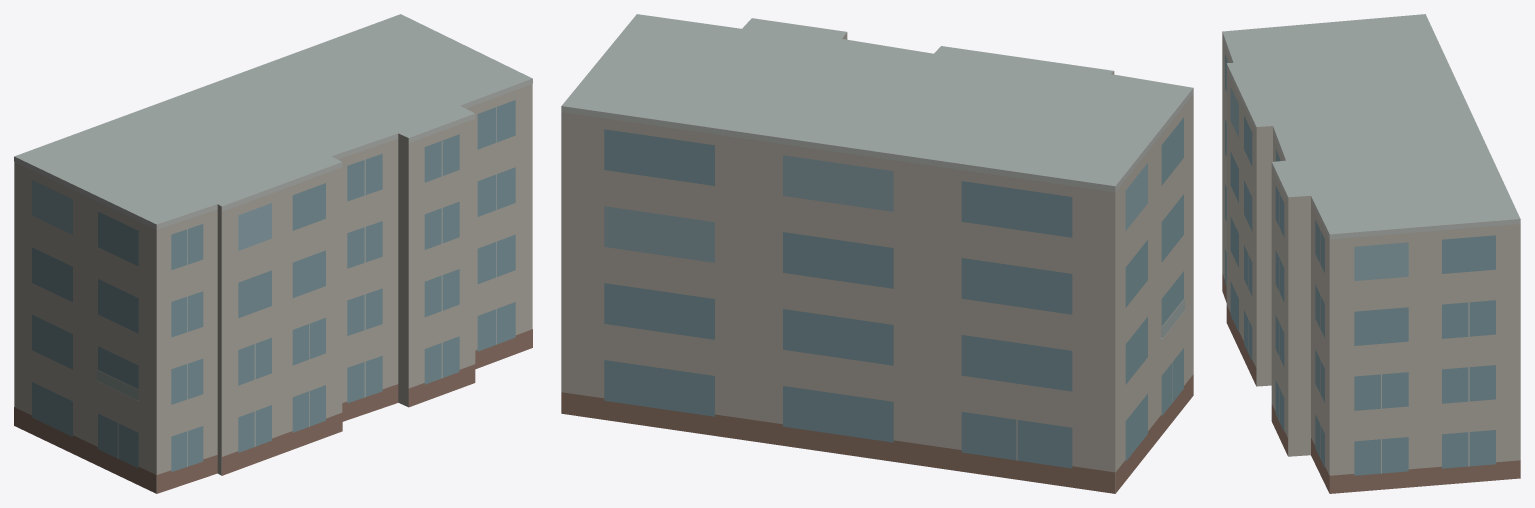
File: survey-upis-32705577.glb
3 views of the same model, side by side, from view 1: azimuth 30°, elevation 25°; view 2: azimuth 150°, elevation 25°; view 3: azimuth 270°, elevation 25° (orthographic). The views are drawn at different scales.
Visible parts, largest first — view 1: survey-upis-32705577.tmp; view 2: survey-upis-32705577.tmp; view 3: survey-upis-32705577.tmp.
Boxes of the visible parts, left/top/right/bottom form: survey-upis-32705577.tmp: left=14, top=14, right=532, bottom=493; survey-upis-32705577.tmp: left=561, top=14, right=1193, bottom=493; survey-upis-32705577.tmp: left=1222, top=14, right=1520, bottom=493.
Bounding box in the file's own units: 22.78 × 12.5 × 13.03.
